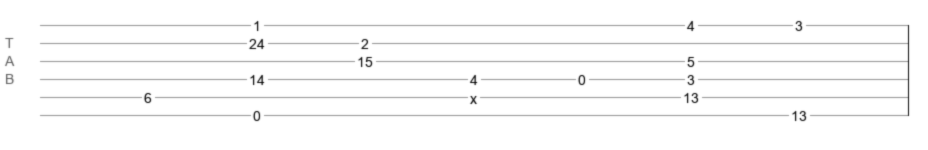0: (253, 108, 261, 118), (578, 72, 586, 82)
1: (253, 18, 261, 28)
13: (683, 90, 699, 100), (791, 108, 807, 118)
14: (249, 72, 265, 82)
15: (357, 54, 373, 64)
2: (361, 36, 369, 46)
24: (249, 36, 265, 46)
3: (687, 72, 695, 82), (795, 18, 803, 28)
4: (470, 72, 478, 82), (687, 18, 695, 28)
5: (687, 54, 695, 64)
6: (144, 90, 152, 100)
x: (470, 91, 477, 99)
